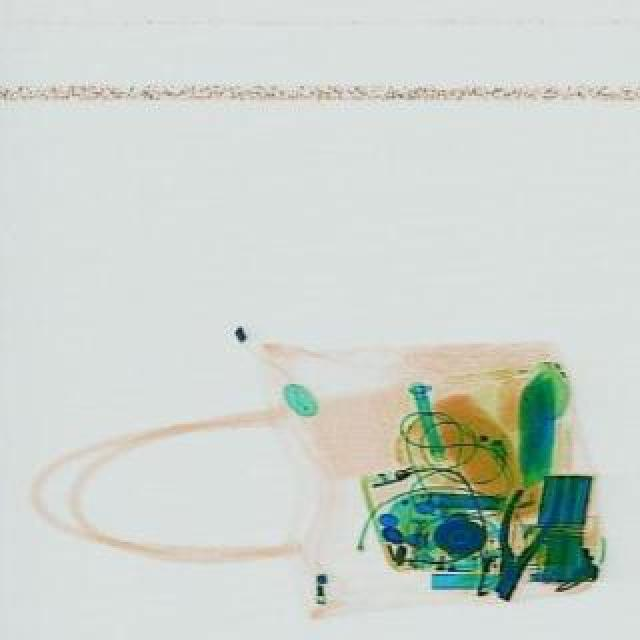wrench: (474, 476, 566, 608)
